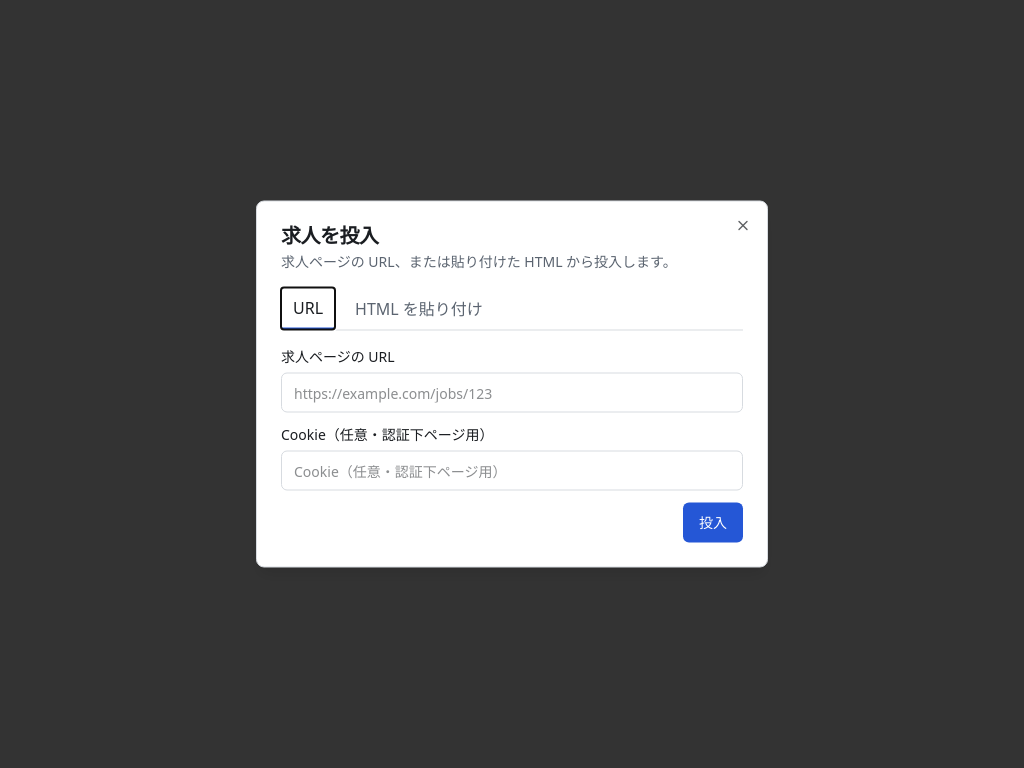
AddJobModal（求人投入モーダル） › 空のまま送信するとエラーを出し submit を呼ばない
The width and height of the screenshot is (1024, 768).
Step 1. Click the button with test id "add-job-submit" → [713, 522], box [683, 502, 743, 542]
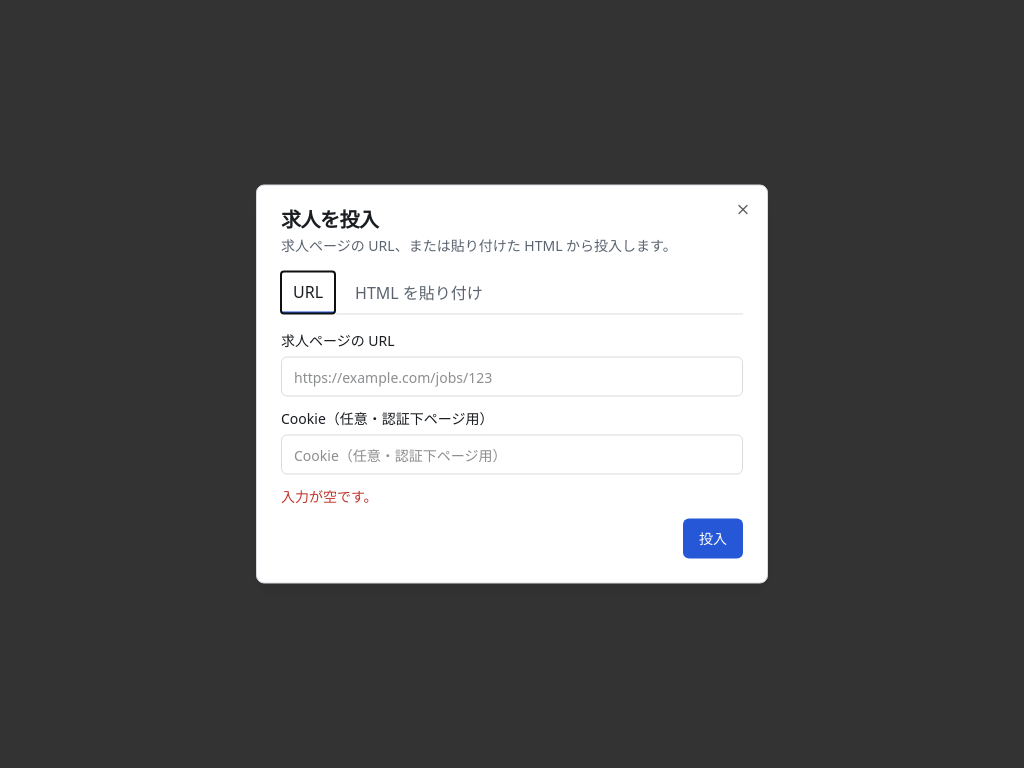
expect the message "入力が空です。" is shown: met, box [281, 486, 378, 506]
